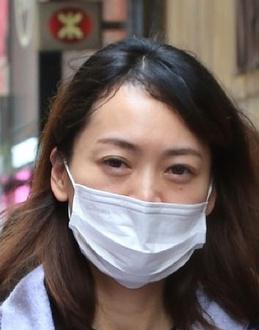WRONG: (76, 120, 209, 287)
